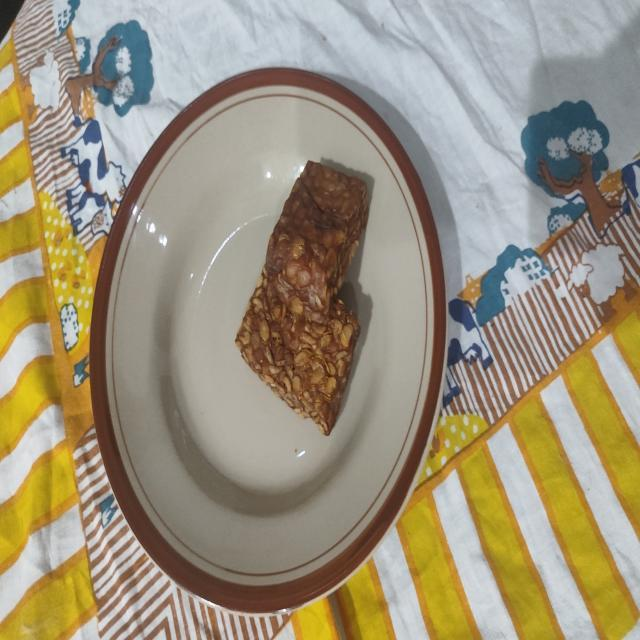tempe_goreng: (236, 283, 361, 433), (263, 159, 370, 317)
